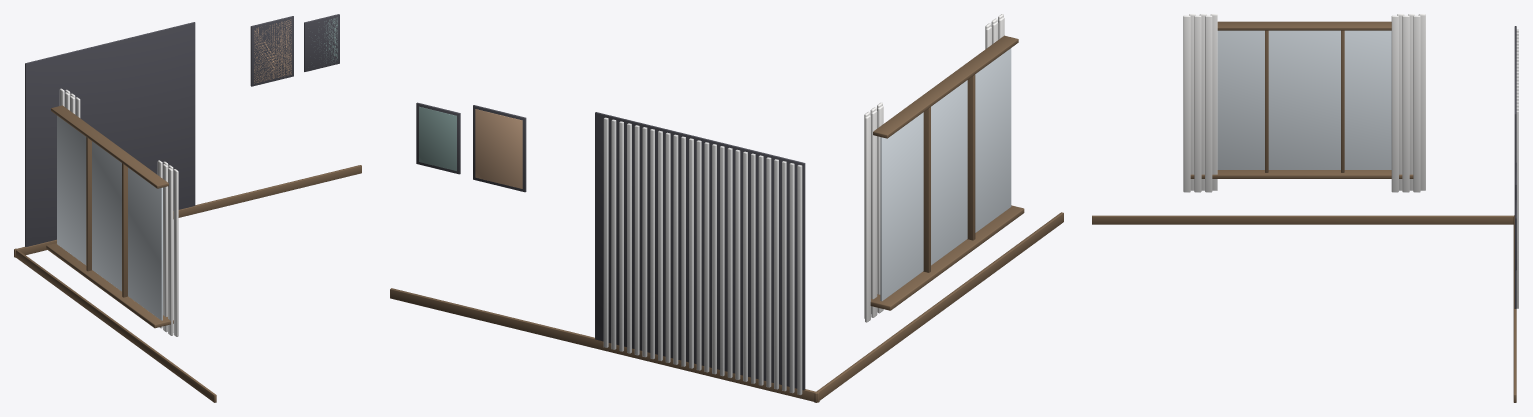
File: Modern_Room_Shell.fbx
3 renders of one model, left to right at view 1: azimuth 30°, elevation 25°; view 2: azimuth 150°, elevation 25°; view 3: azimuth 270°, elevation 25°, orthographic. The views are drawn at different scales.
Visible parts, largest first — view 1: Modern_Room_Shell; view 2: Modern_Room_Shell; view 3: Modern_Room_Shell.
Boxes of the visible parts, box(x1,y1,x2,y2) form: Modern_Room_Shell: box(14, 14, 361, 402); Modern_Room_Shell: box(390, 14, 1063, 402); Modern_Room_Shell: box(1092, 14, 1518, 402).
Size of the model in its own units: 488 by 258 by 472.
